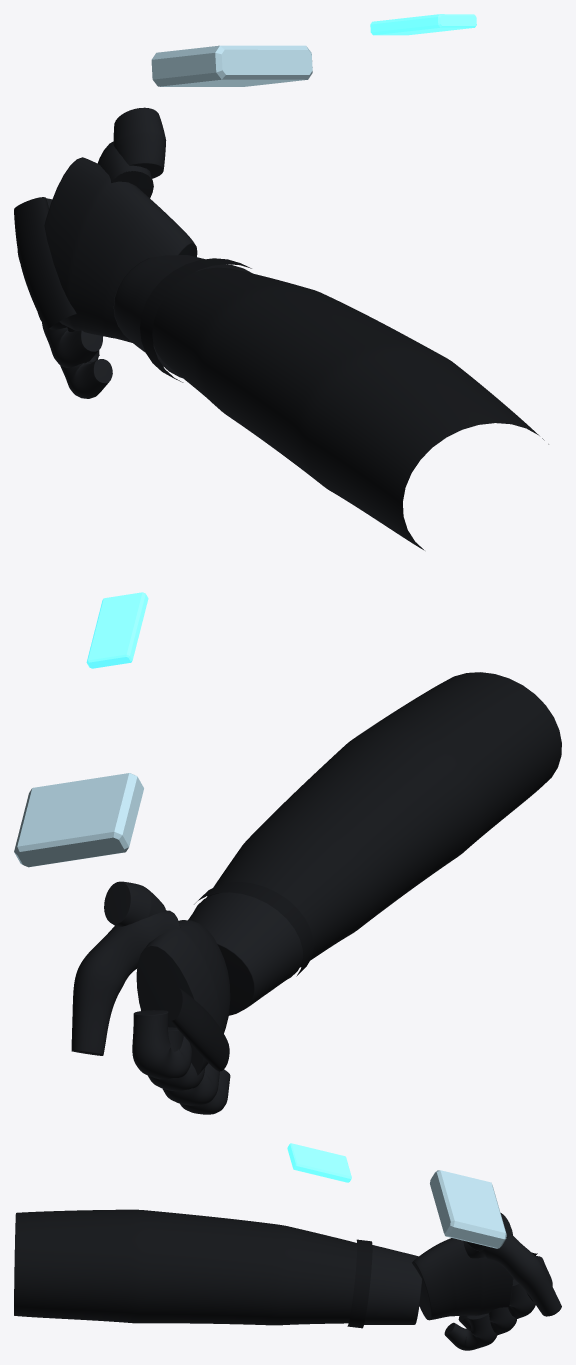
Rendered from hands_glacier_charge.glb.
3 renders of one model, top to bottom at view 1: azimuth 30°, elevation 25°; view 2: azimuth 150°, elevation 25°; view 3: azimuth 270°, elevation 25°, orthographic. The views are drawn at different scales.
Parts seen in each view (by area): view 1: hand_l_forearm, hand_l_palm, hand_l_cuff_plate, hand_l_knuckle_panel, hand_l_cuff, hand_l_web, hand_l_cuff_strap, hand_l_lamp, hand_l_ring, hand_l_little, hand_l_thumb; view 2: hand_l_forearm, hand_l_cuff_plate, hand_l_cuff, hand_l_palm, hand_l_thumb, hand_l_lamp, hand_l_index, hand_l_knuckle_panel, hand_l_web, hand_l_cuff_strap, hand_l_ring, hand_l_middle (+1 smaller); view 3: hand_l_forearm, hand_l_palm, hand_l_cuff_plate, hand_l_cuff, hand_l_thumb, hand_l_lamp, hand_l_cuff_strap, hand_l_little, hand_l_ring, hand_l_middle.
Part boxes in pixels (<box>): hand_l_forearm: <box>152,267,548,550</box>; hand_l_palm: <box>44,157,197,342</box>; hand_l_cuff_plate: <box>151,45,312,86</box>; hand_l_knuckle_panel: <box>14,197,76,330</box>; hand_l_cuff: <box>113,255,252,378</box>; hand_l_web: <box>113,107,166,178</box>; hand_l_cuff_strap: <box>140,258,251,382</box>; hand_l_lamp: <box>370,14,476,35</box>; hand_l_ring: <box>42,322,102,367</box>; hand_l_little: <box>60,327,112,398</box>; hand_l_thumb: <box>97,141,153,197</box>; hand_l_forearm: <box>206,672,561,967</box>; hand_l_cuff_plate: <box>14,773,143,867</box>; hand_l_cuff: <box>188,892,302,1015</box>; hand_l_palm: <box>136,920,230,1075</box>; hand_l_thumb: <box>71,910,180,1055</box>; hand_l_lamp: <box>86,592,148,668</box>; hand_l_index: <box>132,1010,191,1079</box>; hand_l_knuckle_panel: <box>170,988,229,1071</box>; hand_l_web: <box>104,881,165,926</box>; hand_l_cuff_strap: <box>194,882,313,976</box>; hand_l_ring: <box>162,1063,219,1105</box>; hand_l_middle: <box>148,1027,205,1091</box>; hand_l_forearm: <box>14,1209,357,1325</box>; hand_l_palm: <box>412,1228,513,1320</box>; hand_l_cuff_plate: <box>430,1170,506,1248</box>; hand_l_cuff: <box>364,1245,422,1324</box>; hand_l_thumb: <box>463,1234,561,1316</box>; hand_l_lamp: <box>287,1143,351,1182</box>; hand_l_cuff_strap: <box>347,1239,372,1328</box>; hand_l_little: <box>444,1313,497,1350</box>; hand_l_ring: <box>458,1307,516,1335</box>; hand_l_middle: <box>508,1278,535,1318</box>.
Bounding box in the file's own units: 0.1383 × 0.1893 × 0.3439.
